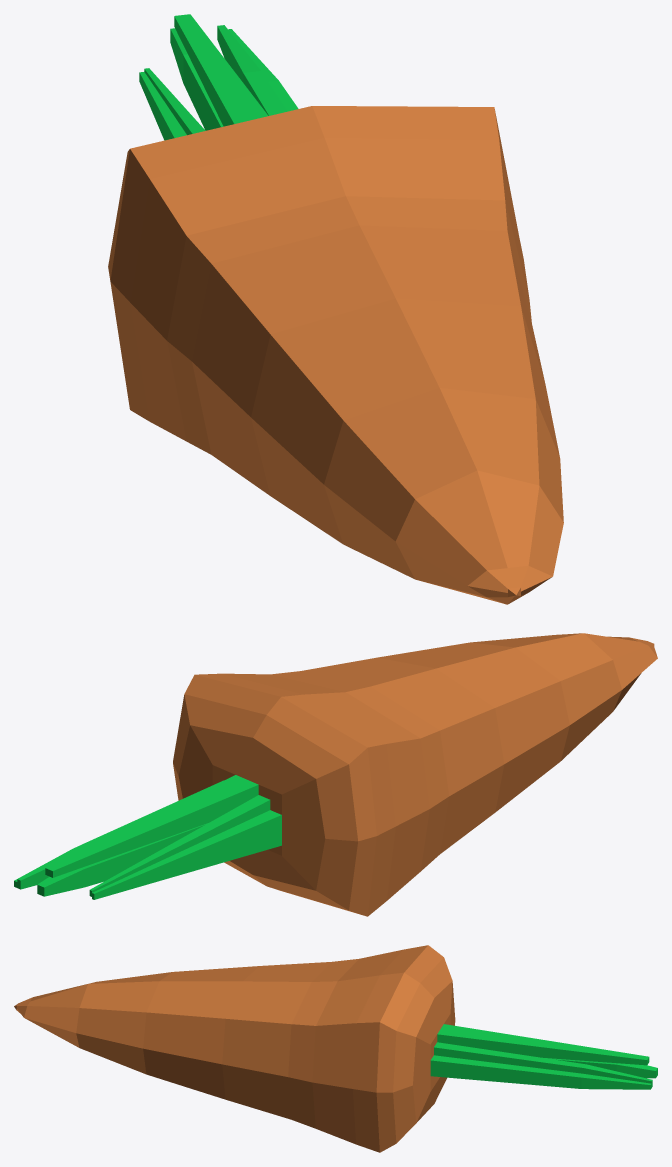
Rendered from carrot.fbx.
3 views of the same model, one above another, from view 1: azimuth 30°, elevation 25°; view 2: azimuth 150°, elevation 25°; view 3: azimuth 270°, elevation 25° (orthographic). The views are drawn at different scales.
Parts seen in each view (by area): view 1: Carrot; view 2: Carrot; view 3: Carrot.
Boxes of the visible parts, box(x1,y1,x2,y2) form: Carrot: box(108, 14, 563, 604); Carrot: box(14, 633, 657, 916); Carrot: box(14, 945, 657, 1152).
Size of the model in its own units: 0.4358 by 0.3118 by 1.21.
